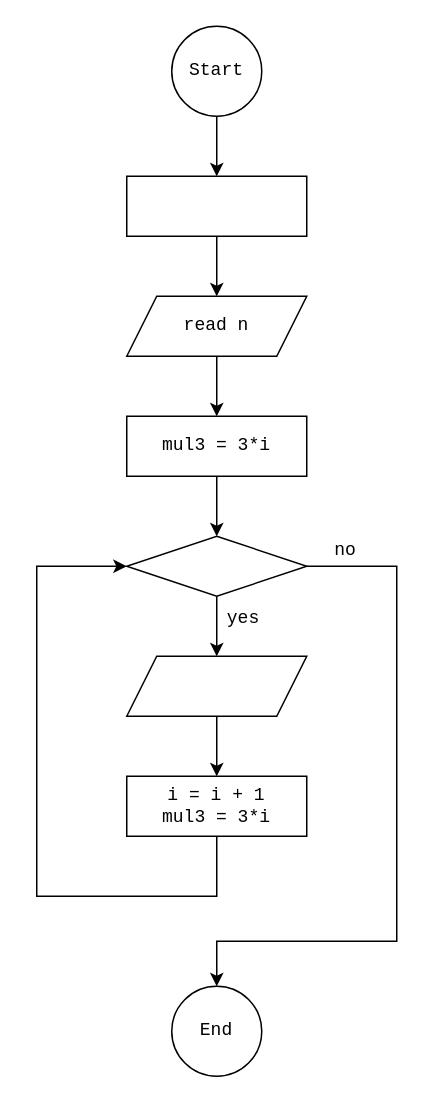
This 435x1103 diagram has some shape labels left out. Here are the shapes that lost their labels. From the top down, the centre of each, then its label:
At [216,205]: "i = 1".
At [216,565]: "mul3 <= n".
At [216,685]: "print mul3".
